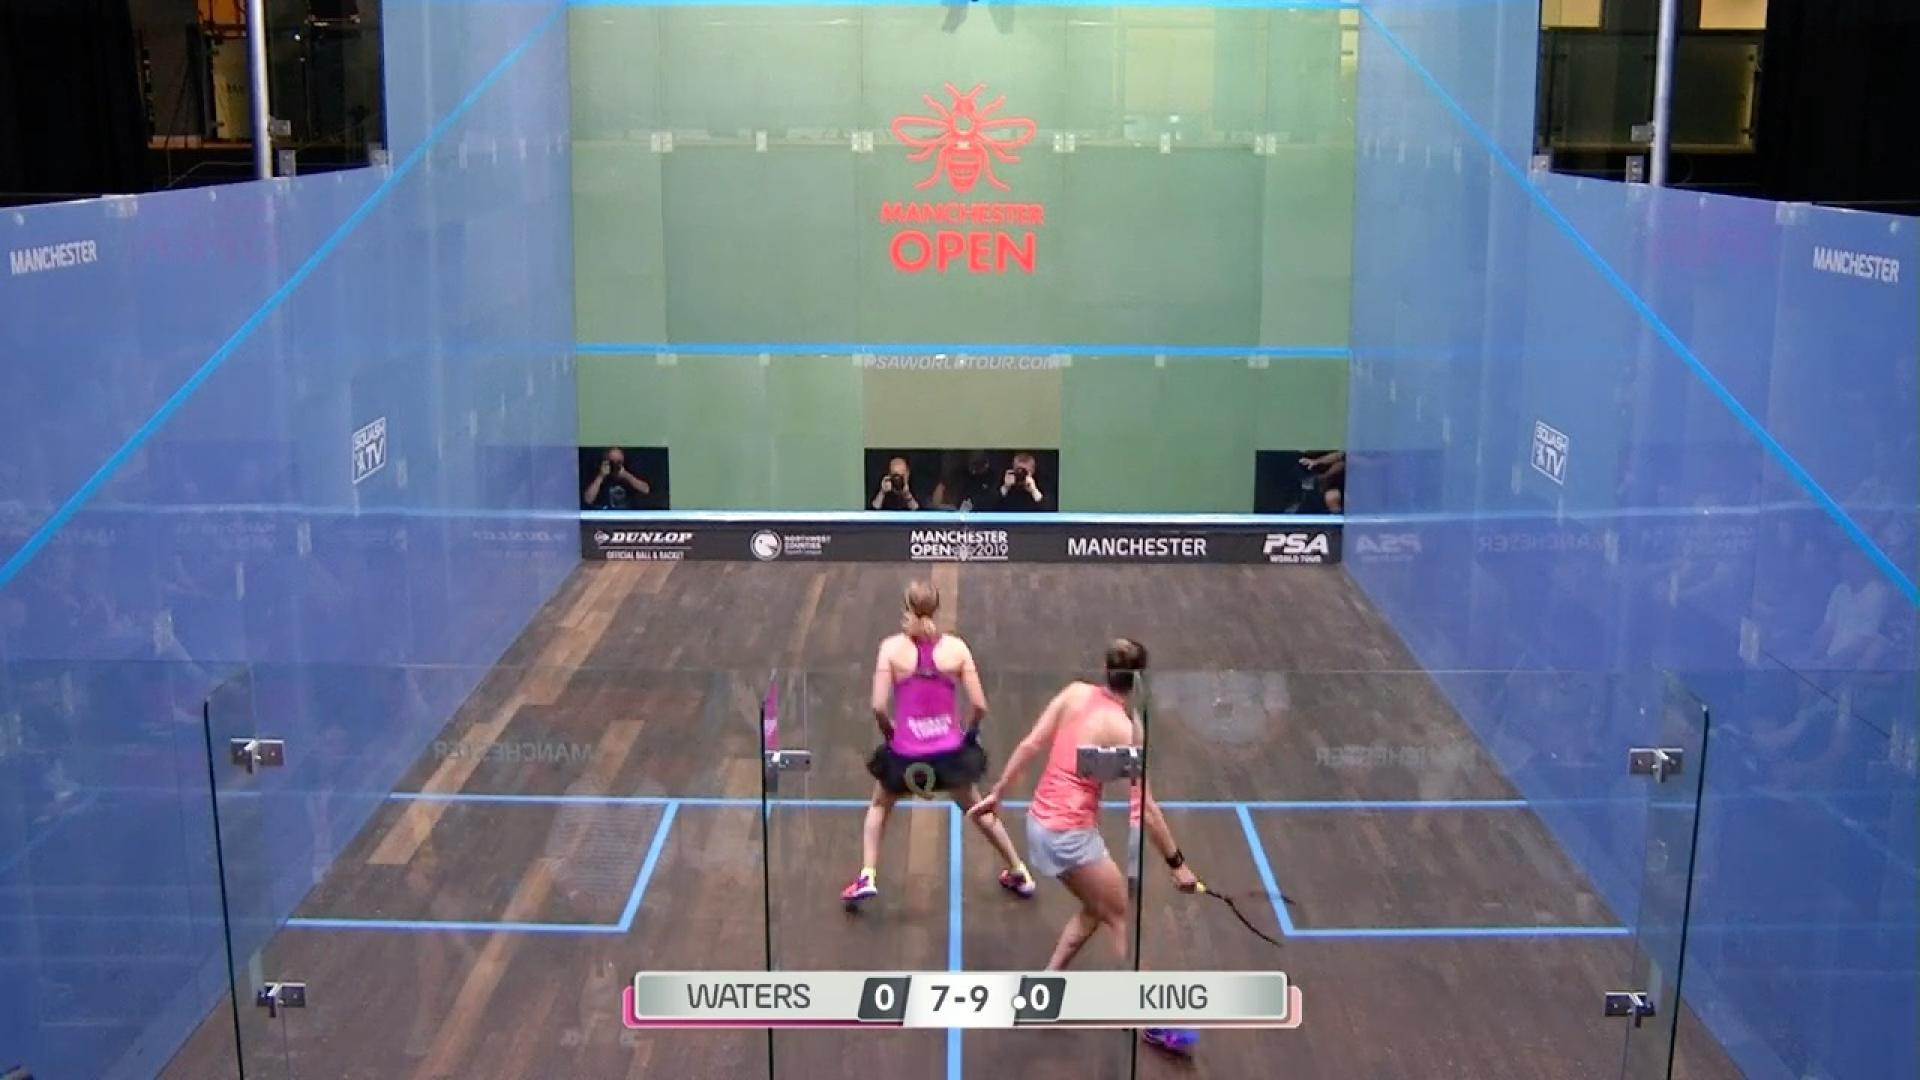Squash-Ball: (922, 340, 955, 380)
